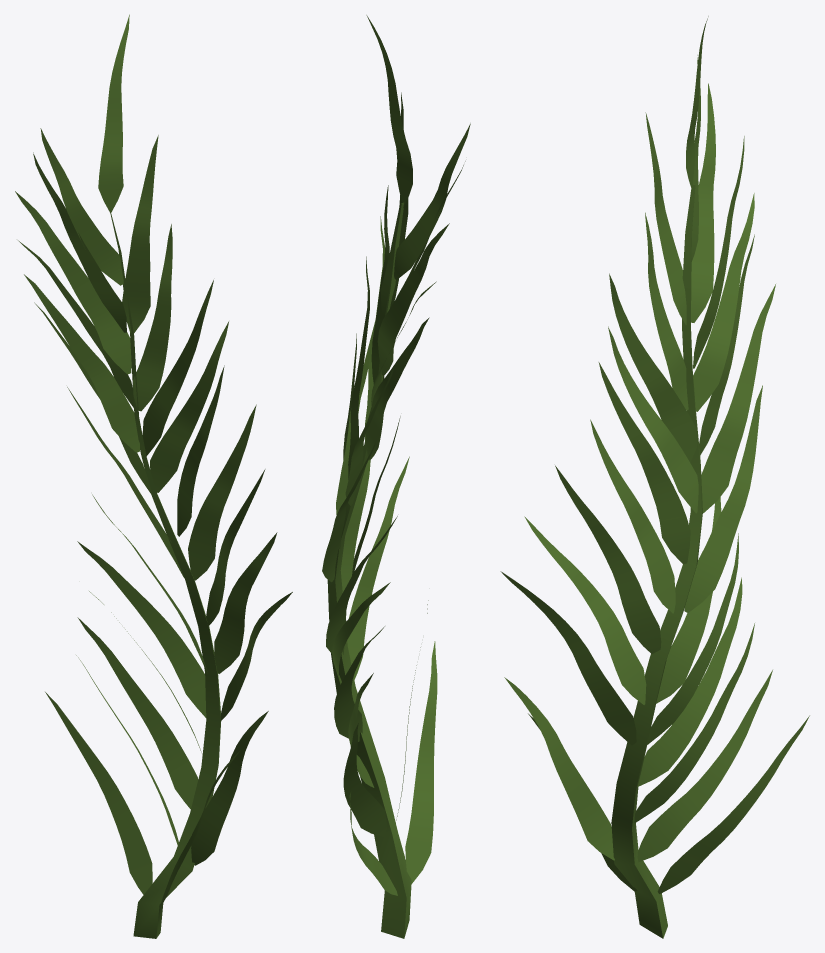
The model's file is plant_swamp_kelp_floor_E.fbx.
3 renders of one model, left to right at view 1: azimuth 30°, elevation 25°; view 2: azimuth 150°, elevation 25°; view 3: azimuth 270°, elevation 25°, orthographic. The views are drawn at different scales.
Visible parts, largest first — view 1: plant_swamp_kelp_floor_E; view 2: plant_swamp_kelp_floor_E; view 3: plant_swamp_kelp_floor_E.
Boxes of the visible parts, x1,y1,x2,y2 form: plant_swamp_kelp_floor_E: [15, 14, 292, 938]; plant_swamp_kelp_floor_E: [322, 15, 470, 938]; plant_swamp_kelp_floor_E: [500, 16, 809, 938].
Bounding box in the file's own units: 51.03 × 265 × 81.08.
